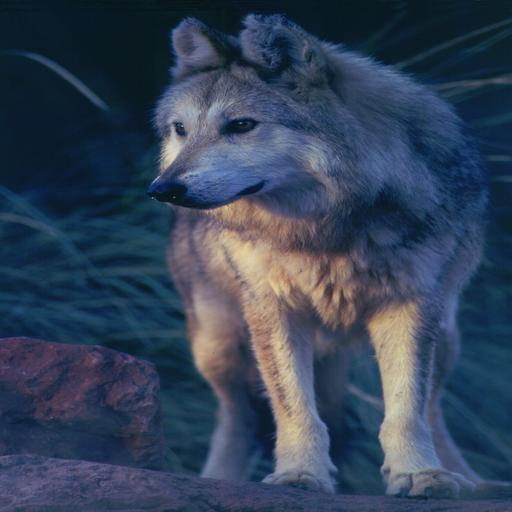Wolf: (149, 6, 492, 503)
